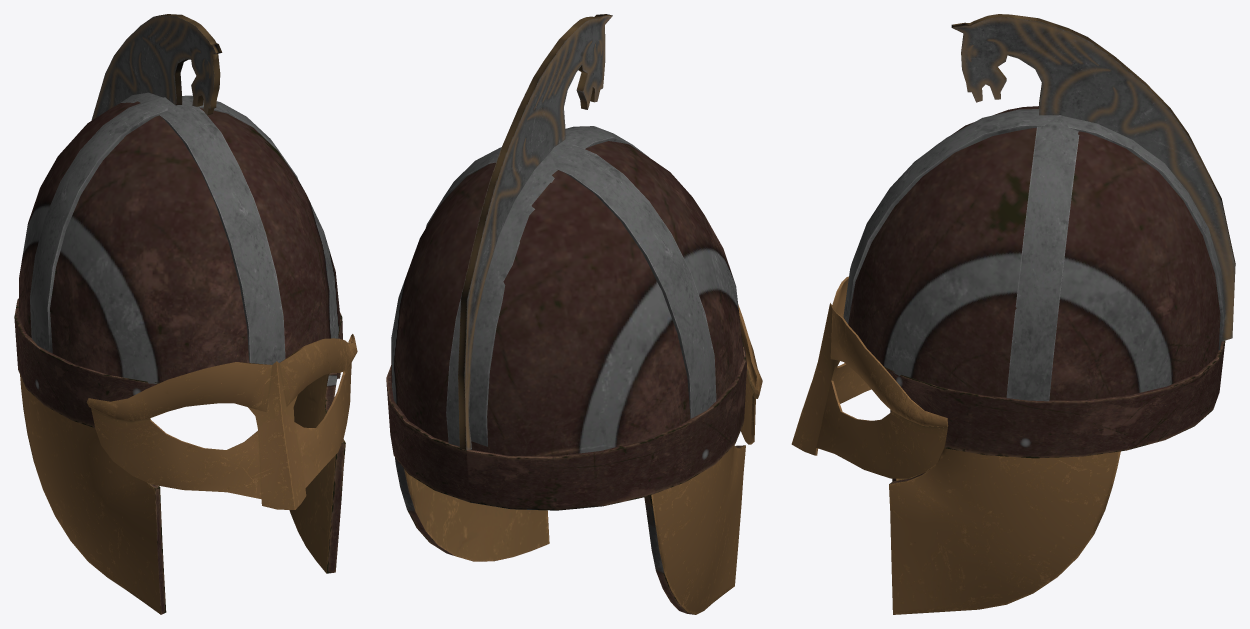
Rendered from cts_rohan_helmet3a.fbx.
The picture shows the model from 3 angles, left to right: view 1: azimuth 30°, elevation 25°; view 2: azimuth 150°, elevation 25°; view 3: azimuth 270°, elevation 25°; orthographic projection. The views are drawn at different scales.
Parts seen in each view (by area): view 1: cts_rohan_helmet3a; view 2: cts_rohan_helmet3a; view 3: cts_rohan_helmet3a.
Boxes of the visible parts, x1,y1,x2,y2 form: cts_rohan_helmet3a: (14,14,357,614); cts_rohan_helmet3a: (386,14,762,614); cts_rohan_helmet3a: (791,14,1235,614).
Size of the model in its own units: 0.1986 by 0.2665 by 0.3682.
Materials: 1 (1 with a texture image).
